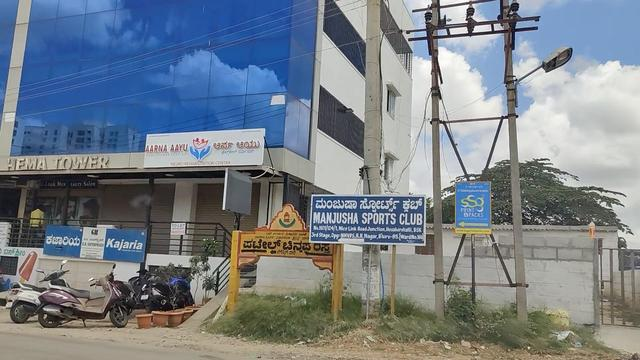LMV: (39, 265, 118, 328)
